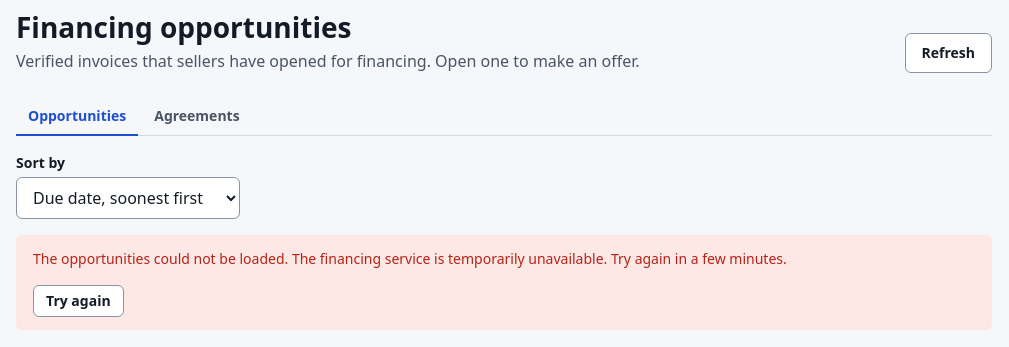
Test case: OpportunityListComponent › offers a retry after a failure
The width and height of the screenshot is (1009, 347).
Click the button "Try again" at (78, 301), box [33,285,124,317]
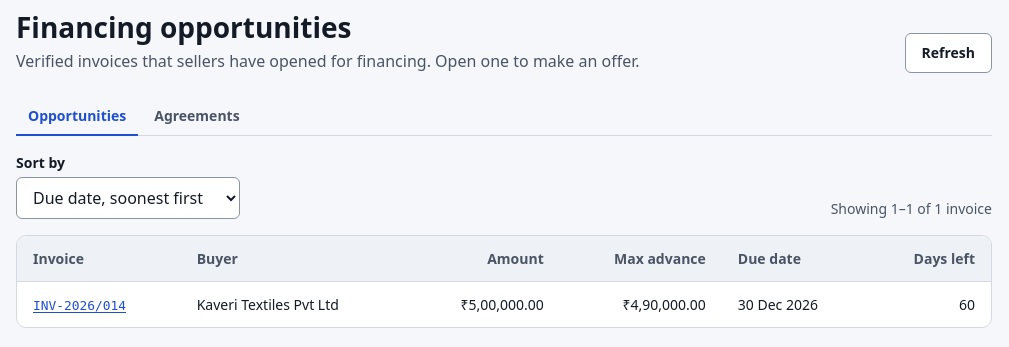
Result: the row that starts with "INV-2026/014" is shown at [17,282,991,327]
